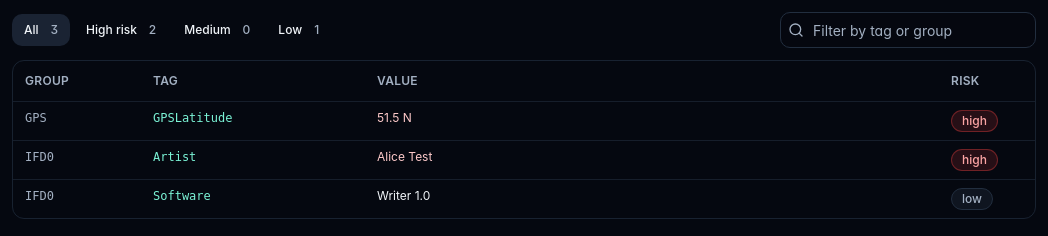
Test: metadata table › filters by free text
In the field with test id "metadata-filter": (908, 30) [780,12,1036,48], type "artist"
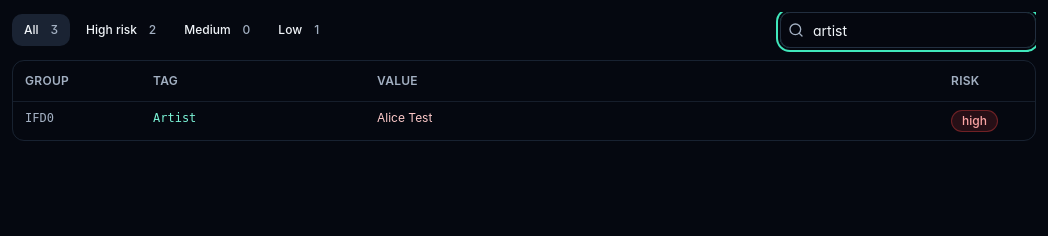
Check: the text "Artist" is shown, box [141,101,365,140]
Check: the text "GPSLatitude" is gone
